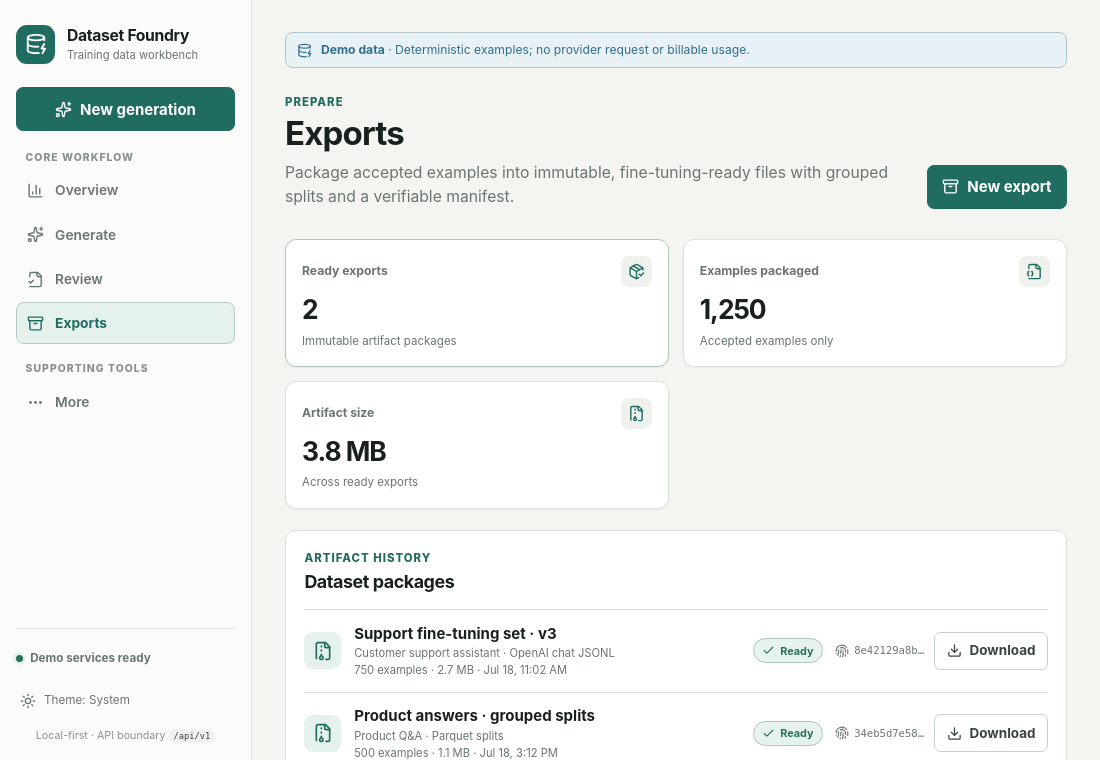
Test: Dataset Foundry workbench › shows a clear export prerequisite when no project exists
What coordinates should you click on to do the following:
click the button "New export"
I would click on:
 (997, 187)
Its box is [927, 165, 1067, 209].
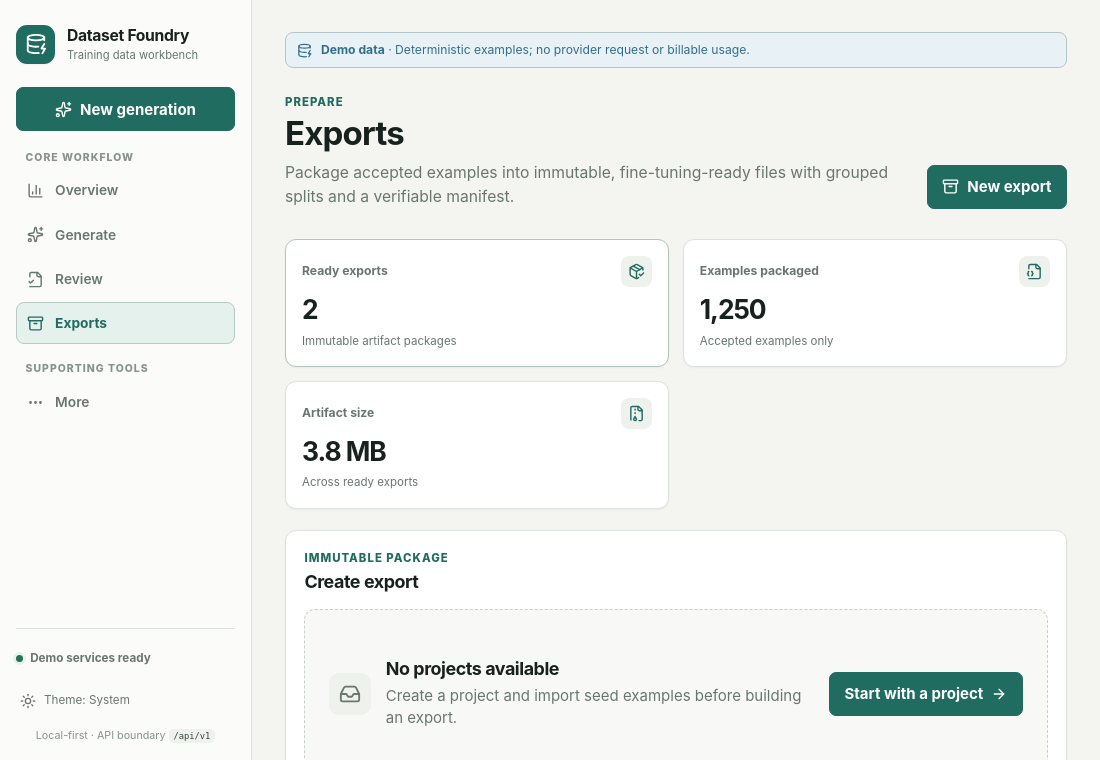
expect the heading "No projects available" is shown: met, box [386, 658, 559, 679]
expect the text "Create a project and import seed examples before building an export." is shown: met, box [386, 685, 815, 730]
